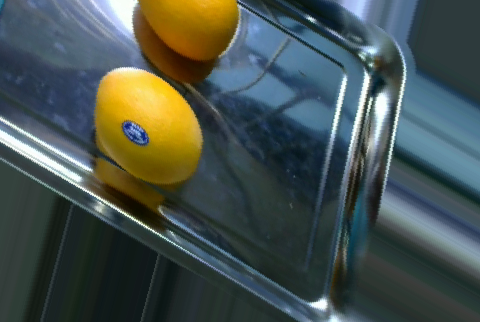Orange: (94, 66, 202, 184)
